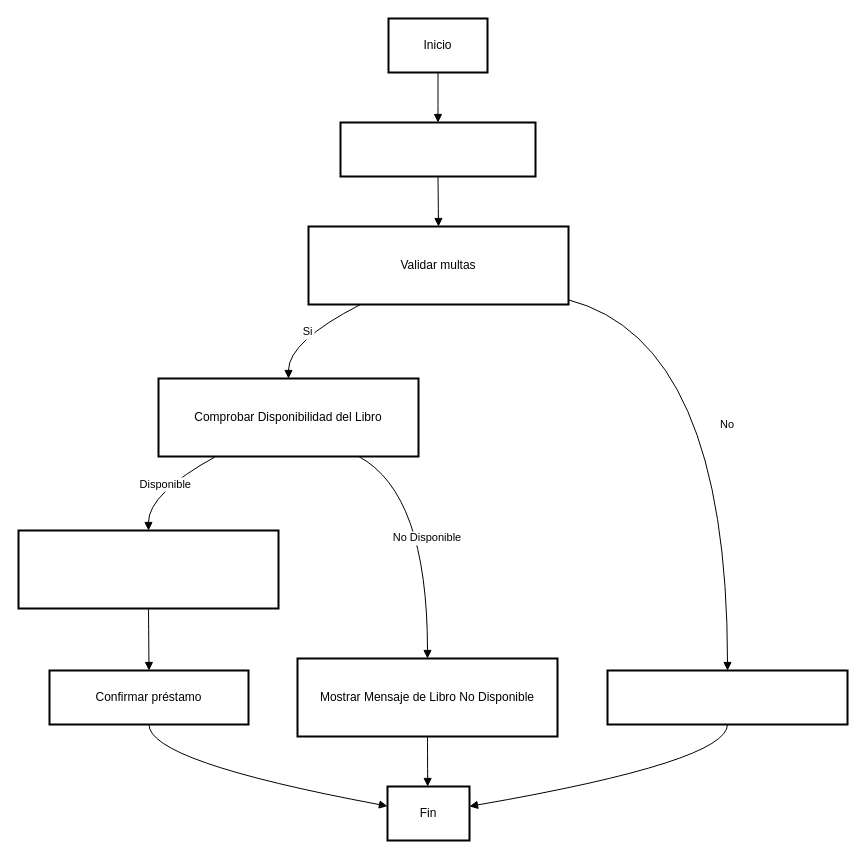
Image size: 865x858. Some labels were removed from this diagram. The shapes that lost their labels are listed below. From the top down, each one's box as (x1, y1, x2, y2) in pixels, then its label:
(339, 121, 536, 177): Solicitar préstamo
(17, 529, 279, 609): Registrar Préstamo en el Sistema
(606, 669, 848, 725): Rechazar préstamos
